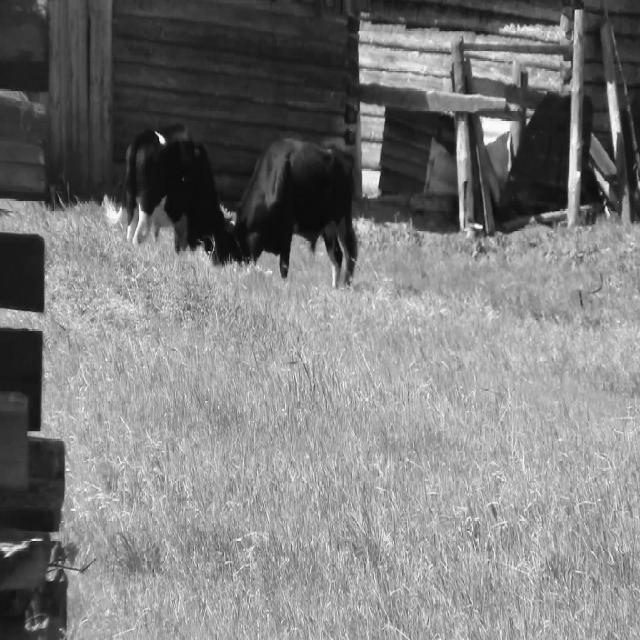cow: (235, 139, 358, 287), (126, 126, 234, 263)
